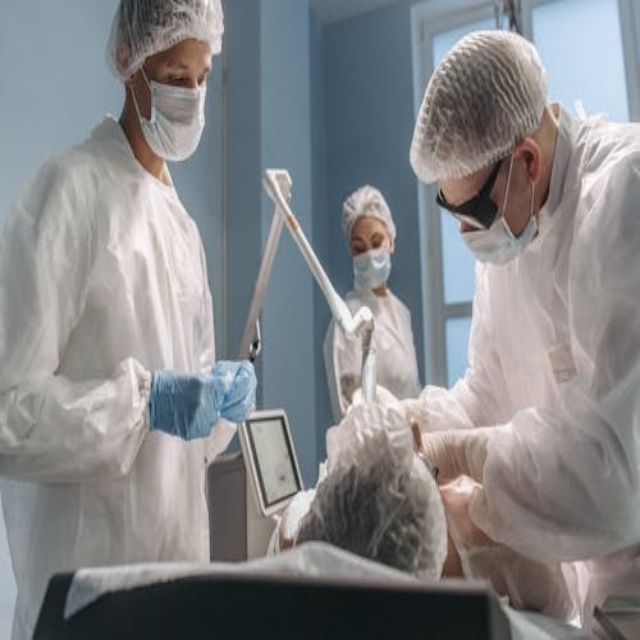Gafas: (437, 156, 507, 231)
Guantes: (150, 335, 265, 445)
Mascara: (448, 138, 543, 274), (132, 63, 206, 163), (349, 243, 398, 289)
Sin_gafas: (156, 61, 207, 96), (349, 224, 390, 247)
